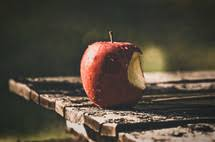damaged_apple: (79, 39, 147, 109)
